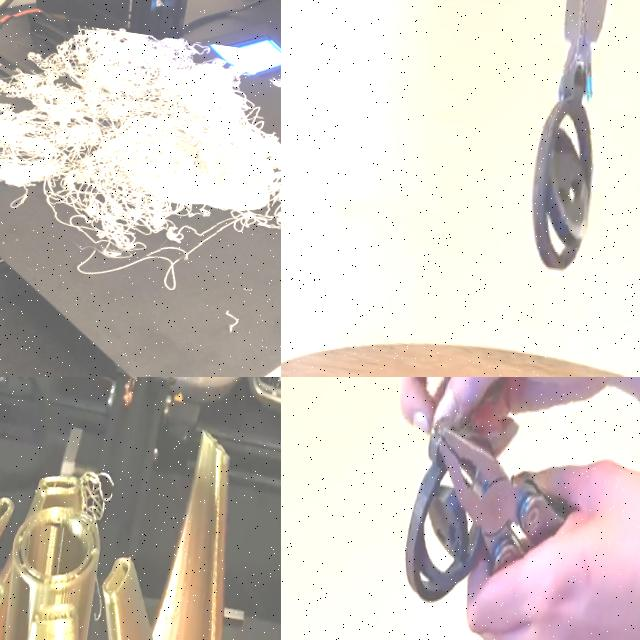spaghetti: (0, 28, 281, 255), (64, 454, 118, 524), (88, 584, 107, 629)
